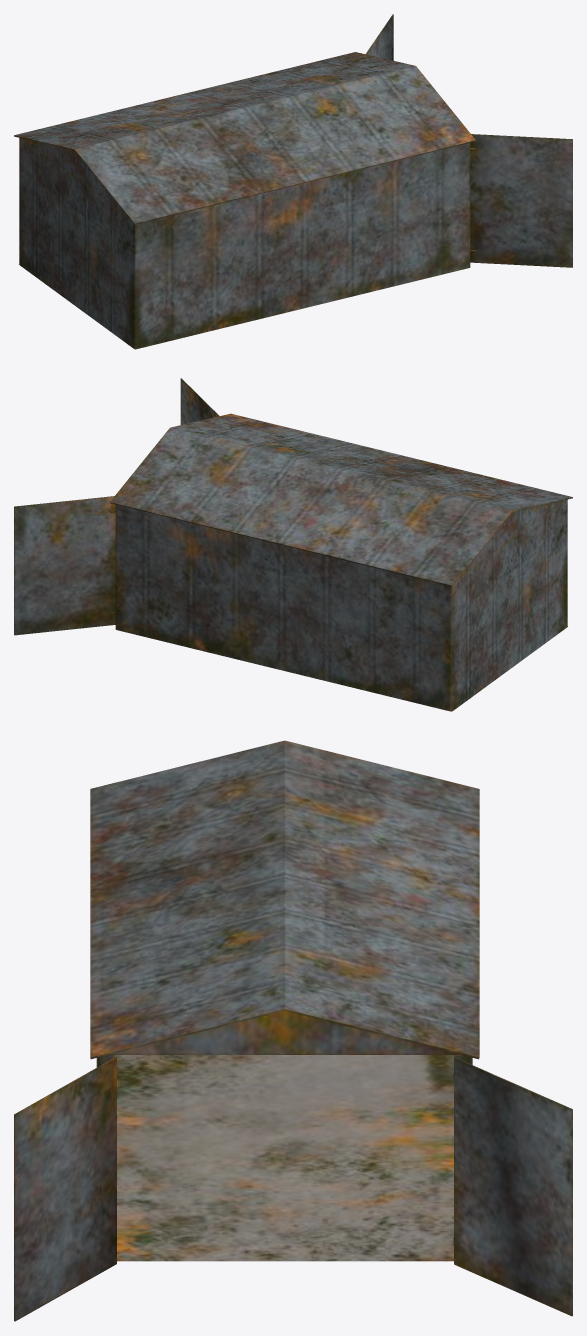
The model's file is garage_metal_3.glb.
The picture shows the model from 3 angles, top to bottom: view 1: azimuth 30°, elevation 25°; view 2: azimuth 150°, elevation 25°; view 3: azimuth 270°, elevation 25°; orthographic projection. The views are drawn at different scales.
Visible parts, largest first — view 1: garage_metal_3; view 2: garage_metal_3; view 3: garage_metal_3.
Boxes of the visible parts, x1,y1,x2,y2 form: garage_metal_3: (14, 14, 572, 349); garage_metal_3: (14, 378, 572, 711); garage_metal_3: (14, 740, 572, 1321).
Bounding box in the file's own units: 6.77 × 2.47 × 4.9.
1 material, 1 textured.
